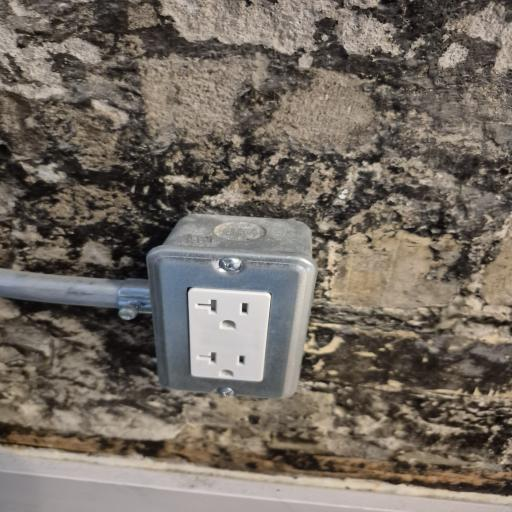outlet: (154, 248, 288, 404)
